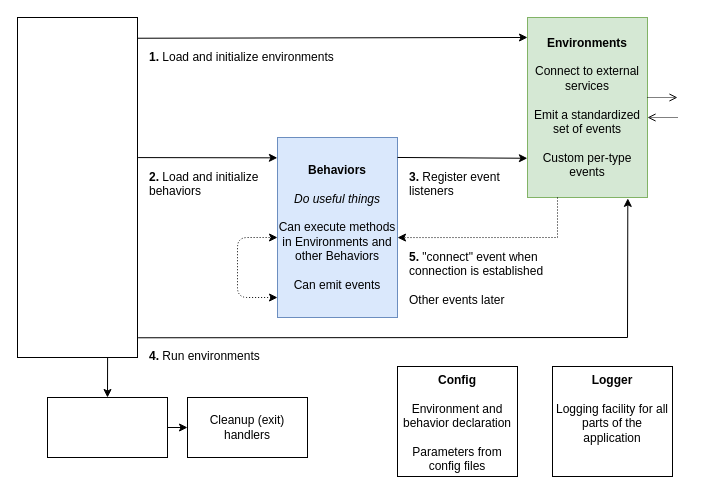
This 703x494 diagram has some shape labels left out. Each missing label, with the centre of its shape:
Core Manages submodules: point 77,187
Graceful shutdown handlers: point 107,427
